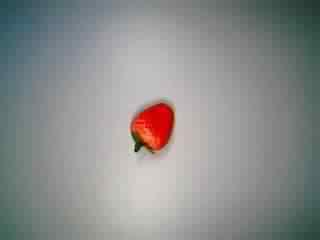strawberry: (119, 96, 181, 160)
